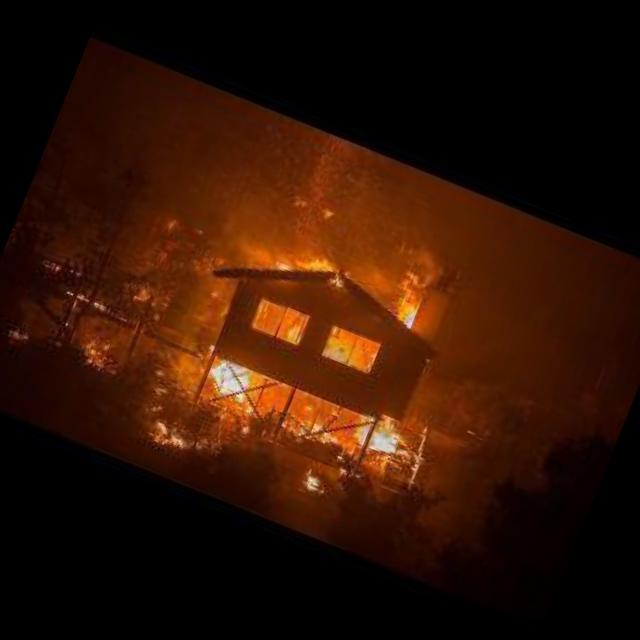fire: (194, 348, 436, 494), (250, 218, 436, 384)
